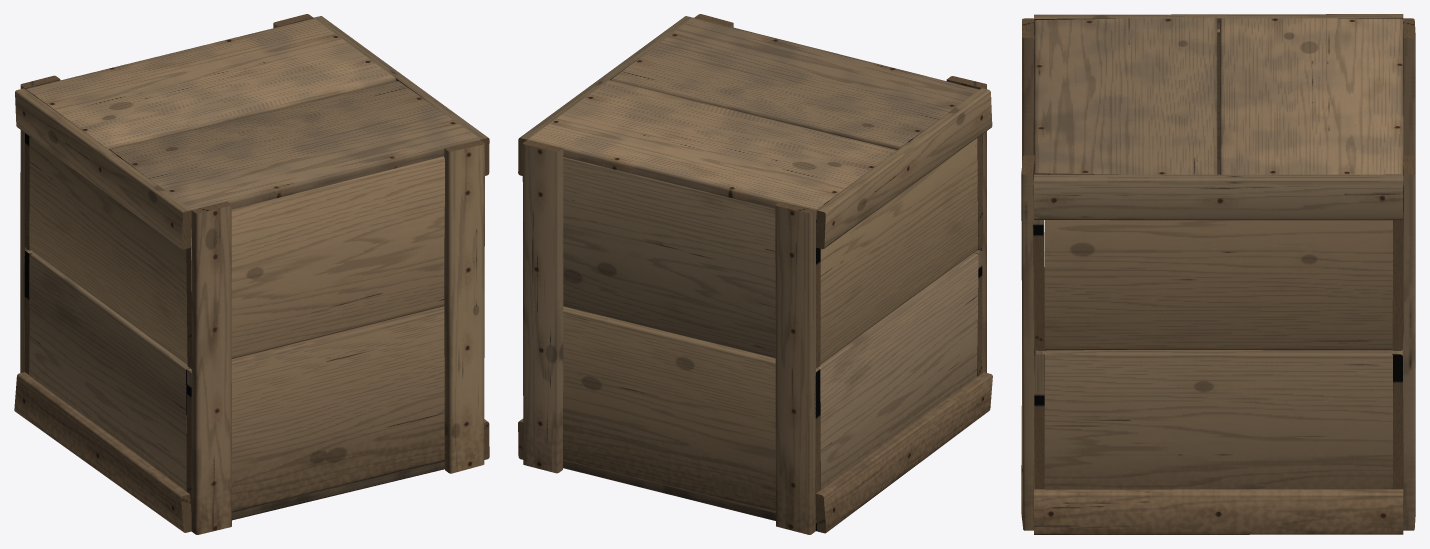
The model's file is wooden-crate.glb.
The picture shows the model from 3 angles, left to right: view 1: azimuth 30°, elevation 25°; view 2: azimuth 150°, elevation 25°; view 3: azimuth 270°, elevation 25°; orthographic projection. The views are drawn at different scales.
Parts seen in each view (by area): view 1: wooden-crate_lod0; view 2: wooden-crate_lod0; view 3: wooden-crate_lod0.
Boxes of the visible parts, x1,y1,x2,y2 form: wooden-crate_lod0: (14, 14, 489, 534); wooden-crate_lod0: (518, 14, 992, 534); wooden-crate_lod0: (1021, 14, 1415, 534).
Size of the model in its own units: 0.603 by 0.6034 by 0.6023.
Materials: 1 (1 with a texture image).
